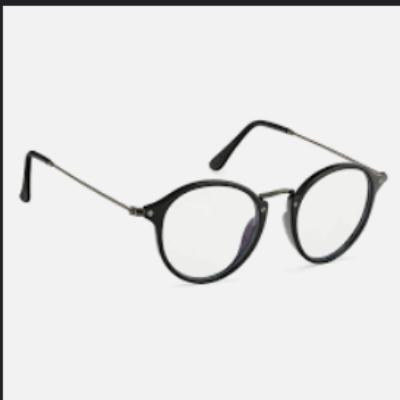glasses: (17, 116, 392, 287)
